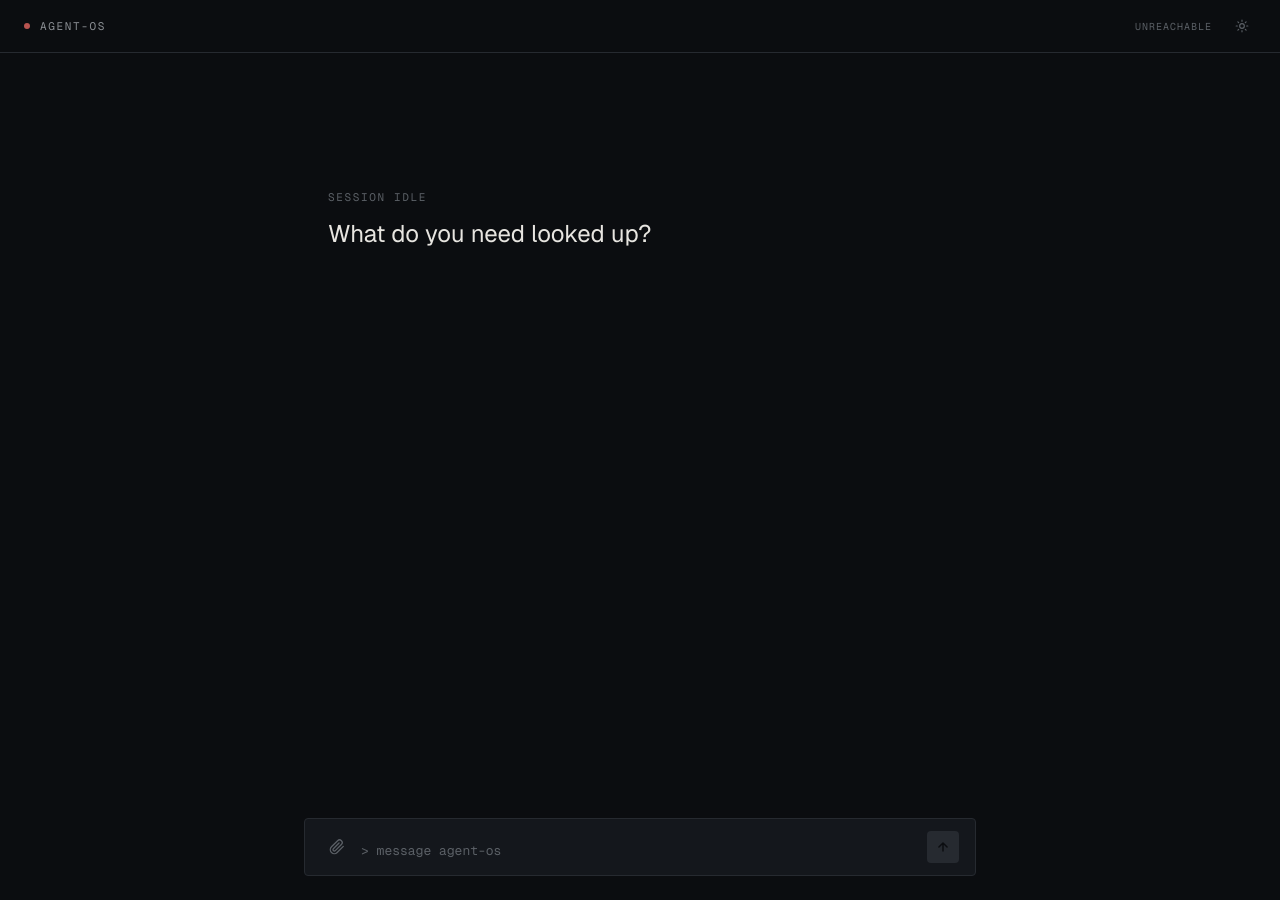
it: ChatPage › enables the send button once text is typed
The width and height of the screenshot is (1280, 900).
Type "hello" into the text box with placeholder "> message agent-os".
click(640, 852); type("hello")  # box top-left (361, 840), bottom-right (919, 863)
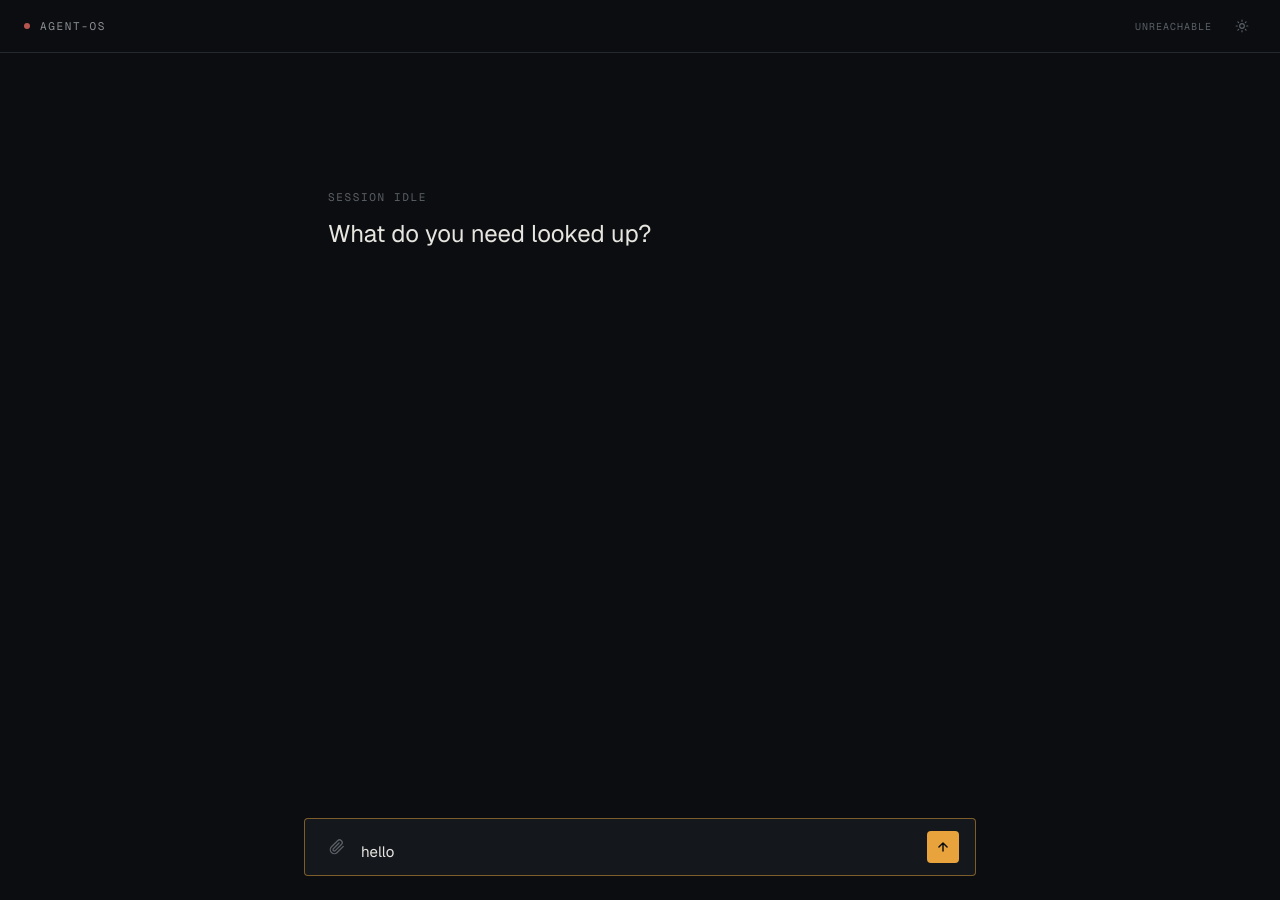
Now the 3rd button is enabled, box top-left (927, 831), bottom-right (959, 863)
